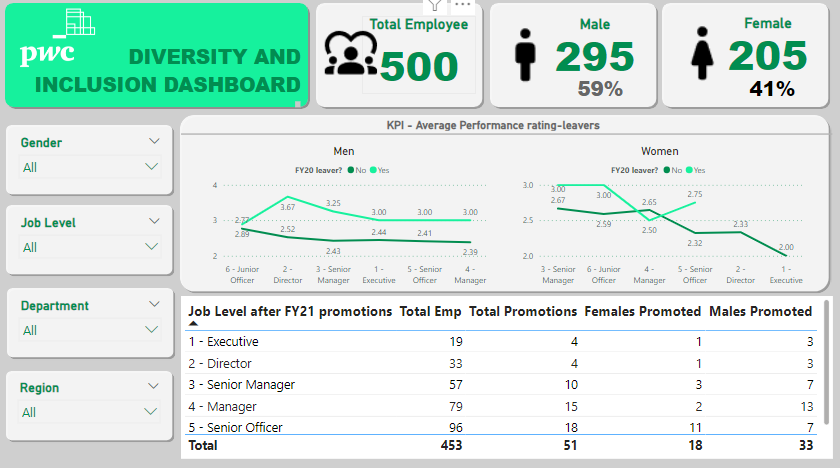

The dashboard page shown, as its layout file describes it:
{"tool":"powerbi","page":{"name":"KPI 2","canvas":[1280,720],"ordinal":1},"visuals":[{"type":"shape","box":[273.8,178.7,980.3,275.4],"z":0},{"type":"shape","box":[11.4,11.4,464.3,167.1],"z":1000},{"type":"shape","box":[475.7,11.4,260,167.1],"z":2000},{"type":"shape","box":[992.9,11.4,260,167.1],"z":3000},{"type":"shape","box":[13.9,194.4,259.7,115.3],"z":4000},{"type":"shape","box":[735.7,11.4,260,167.1],"z":5000},{"type":"card","title":"Total Employee","fields":{"Values":["All Measures.Total Emp"]},"box":[551.4,37.1,170,117.1],"z":6000},{"type":"card","title":"Male","fields":{"Values":["All Measures.Male"]},"box":[815.7,37.1,164.3,87.1],"z":7000},{"type":"card","title":"Male","fields":{"Values":["All Measures.% Male"]},"box":[848.6,112.9,114.3,65.7],"z":8000},{"type":"card","title":"Female","fields":{"Values":["All Measures.Female"]},"box":[1074.3,35.7,164.3,87.1],"z":9000},{"type":"card","title":"Male","fields":{"Values":["All Measures.% Female"]},"box":[1105.7,112.9,114.3,65.7],"z":10000},{"type":"textbox","title":"DIVERSITY AND INCLUSION DASHBOARD","box":[15.6,78,449.3,100.6],"z":11000},{"type":"slicer","fields":{"Values":["Pharma Group AG.Gender"]},"box":[27.8,209.7,233.3,87.5],"z":12000},{"type":"image","box":[11.3,18.4,171.5,110.6],"z":13000},{"type":"image","box":[460.6,45.4,144.6,87.9],"z":14000},{"type":"image","box":[704.4,45.4,178.6,102],"z":15000},{"type":"image","box":[963.8,42.5,188.5,103.5],"z":16000},{"type":"lineChart","title":"Women","fields":{"Category":["Pharma Group AG.Job Level after FY20 promotions"],"Y":["Avg(Pharma Group AG.FY19 Performance Rating)"],"Series":["Pharma Group AG.FY20 leaver?"]},"box":[770,227.8,450,217.8],"z":17000},{"type":"shape","box":[281.1,195.6,972.2,35.6],"z":18000},{"type":"textbox","title":"KPI - Average Performance rating-leavers","box":[475.6,188.9,541.1,25.6],"z":19000},{"type":"shape","box":[14.2,314.2,259.7,115.3],"z":20000},{"type":"slicer","fields":{"Values":["Pharma Group AG.Job Level after FY20 promotions"]},"box":[28.1,329.4,233.3,87.5],"z":21000},{"type":"shape","box":[14.4,438.1,259.7,115.3],"z":22000},{"type":"slicer","fields":{"Values":["Pharma Group AG.Last Department in FY20"]},"box":[28.3,453.3,233.3,87.5],"z":23000},{"type":"shape","box":[13.3,560.6,259.7,115.3],"z":24000},{"type":"slicer","fields":{"Values":["Pharma Group AG.Broad region group: nationality 1"]},"box":[27.2,575.8,233.3,87.5],"z":25000},{"type":"tableEx","fields":{"Values":["Pharma Group AG.Job Level after FY21 promotions","All Measures.Total Emp","All Measures.Total Promotions","All Measures.Females Promoted","All Measures.Males Promoted"]},"box":[280.6,455.2,973.1,243.3],"z":26000},{"type":"lineChart","title":"Men","fields":{"Category":["Pharma Group AG.Job Level after FY20 promotions"],"Y":["Avg(Pharma Group AG.FY19 Performance Rating)"],"Series":["Pharma Group AG.FY20 leaver?"]},"box":[298.9,227.8,450,217.8],"z":27000}]}

Visuals, with their boxes in screenshot pixels (x1, y1, x2, y2), scaled from the page's 1280x720 canvas onto the 840x468 screenshot:
shape: x1=180, y1=116, x2=823, y2=295
shape: x1=7, y1=7, x2=312, y2=116
shape: x1=312, y1=7, x2=483, y2=116
shape: x1=652, y1=7, x2=822, y2=116
shape: x1=9, y1=126, x2=180, y2=201
shape: x1=483, y1=7, x2=653, y2=116
"Total Employee" card: x1=362, y1=24, x2=473, y2=100
"Male" card: x1=535, y1=24, x2=643, y2=81
"Male" card: x1=557, y1=73, x2=632, y2=116
"Female" card: x1=705, y1=23, x2=813, y2=80
"Male" card: x1=726, y1=73, x2=801, y2=116
"DIVERSITY AND INCLUSION DASHBOARD" textbox: x1=10, y1=51, x2=305, y2=116
slicer - Pharma Group AG.Gender: x1=18, y1=136, x2=171, y2=193
image: x1=7, y1=12, x2=120, y2=84
image: x1=302, y1=30, x2=397, y2=87
image: x1=462, y1=30, x2=579, y2=96
image: x1=632, y1=28, x2=756, y2=95
"Women" lineChart: x1=505, y1=148, x2=801, y2=290
shape: x1=184, y1=127, x2=822, y2=150
"KPI - Average Performance rating-leavers" textbox: x1=312, y1=123, x2=667, y2=139
shape: x1=9, y1=204, x2=180, y2=279
slicer - Pharma Group AG.Job Level after FY20 promotions: x1=18, y1=214, x2=172, y2=271
shape: x1=9, y1=285, x2=180, y2=360
slicer - Pharma Group AG.Last Department in FY20: x1=19, y1=295, x2=172, y2=352
shape: x1=9, y1=364, x2=179, y2=439
slicer - Pharma Group AG.Broad region group: nationality 1: x1=18, y1=374, x2=171, y2=431
tableEx - Pharma Group AG.Job Level after FY21 promotions x All Measures.Total Emp: x1=184, y1=296, x2=823, y2=454
"Men" lineChart: x1=196, y1=148, x2=491, y2=290
